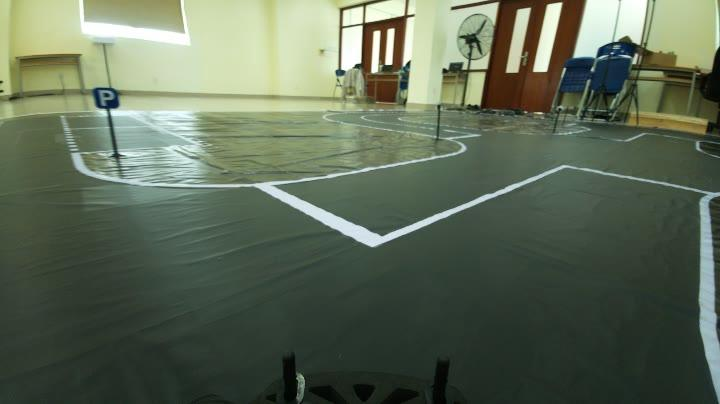parking: (88, 84, 126, 112)
